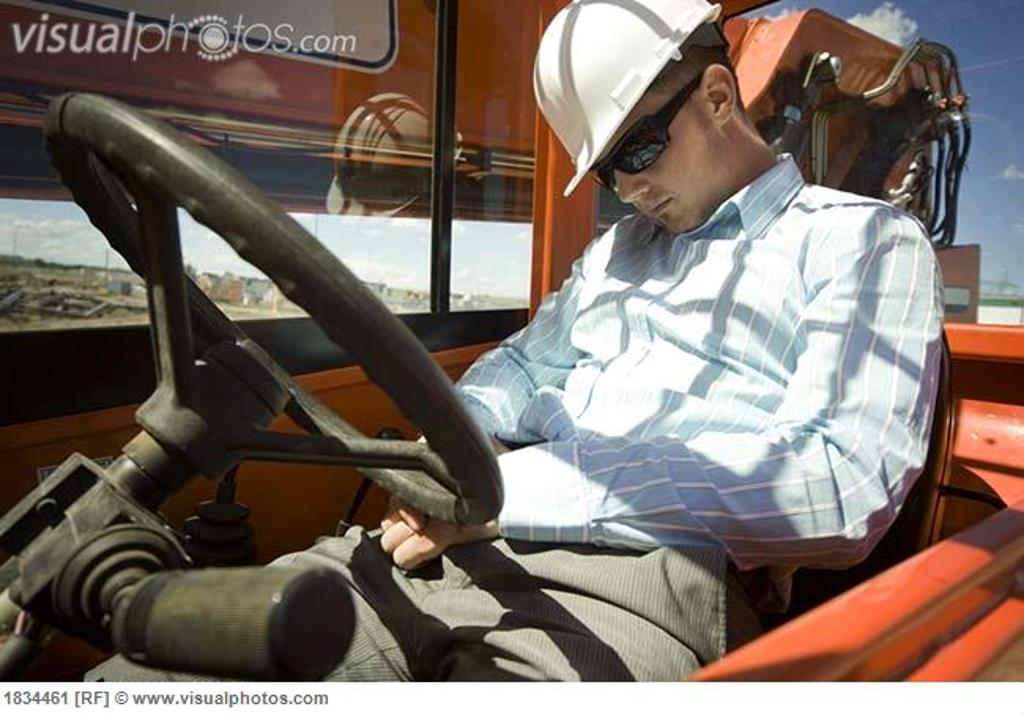face: (582, 60, 704, 236)
